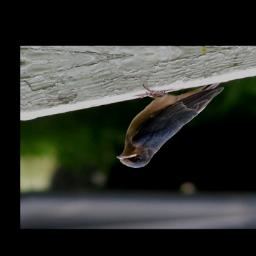Swallow: (109, 77, 232, 170)
